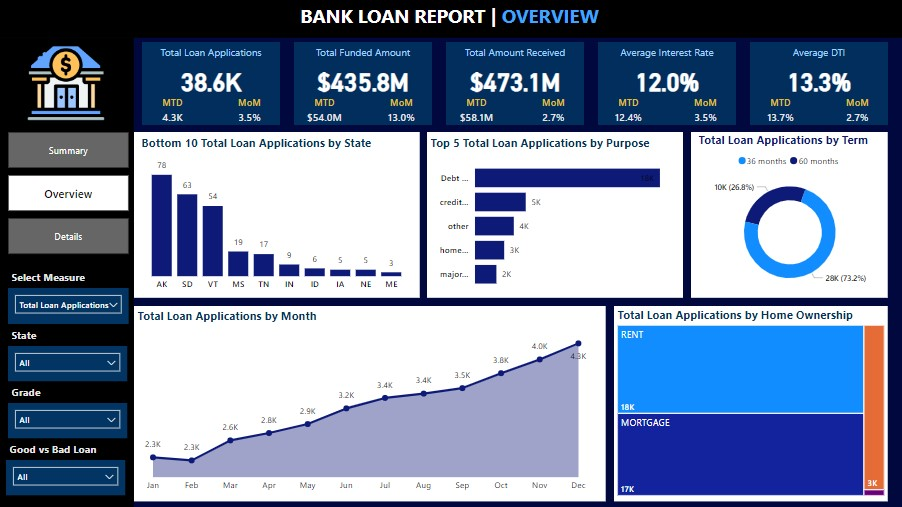

The dashboard page shown, as its layout file describes it:
{"tool":"powerbi","page":{"name":"Overview","canvas":[1280,720],"ordinal":1},"visuals":[{"type":"shape","box":[202.7,60.9,195.6,117.6],"z":0,"group":"g2"},{"type":"shape","box":[418.1,60.9,195.6,117.6],"z":0,"group":"g1"},{"type":"shape","box":[633.5,60.9,195.6,117.6],"z":0,"group":"g3"},{"type":"shape","box":[849,60.9,195.6,117.6],"z":0,"group":"g4"},{"type":"shape","box":[1064.4,60.9,195.6,117.6],"z":0,"group":"g5"},{"type":"shape","box":[191.3,188.5,405.4,235.3],"z":0},{"type":"shape","box":[0,55.3,191.3,664.7],"z":1000},{"type":"card","fields":{"Values":["bank_loan_data.Total Loan Applications"]},"box":[225.4,92.1,150.2,45.4],"z":1000,"group":"g2"},{"type":"card","fields":{"Values":["bank_loan_data.Total Funded Amount"]},"box":[440.8,92.1,150.2,45.4],"z":1000,"group":"g1"},{"type":"card","fields":{"Values":["bank_loan_data.Total Amount Received"]},"box":[656.2,92.1,150.2,45.4],"z":1000,"group":"g3"},{"type":"card","fields":{"Values":["bank_loan_data.Avg Interest Rate"]},"box":[871.7,92.1,150.2,45.4],"z":1000,"group":"g4"},{"type":"card","fields":{"Values":["bank_loan_data.Avg DTI"]},"box":[1087.1,92.1,150.2,45.4],"z":1000,"group":"g5"},{"type":"shape","box":[0,0,1279.8,55],"z":2000},{"type":"textbox","box":[214,60.9,172.9,31.2],"z":2000,"group":"g2"},{"type":"textbox","box":[429.4,60.9,172.9,31.2],"z":2000,"group":"g1"},{"type":"textbox","box":[644.8,60.9,172.9,31.2],"z":2000,"group":"g3"},{"type":"textbox","box":[860.3,60.9,172.9,31.2],"z":2000,"group":"g4"},{"type":"textbox","box":[1075.7,60.9,172.9,31.2],"z":2000,"group":"g5"},{"type":"card","title":"MTD","fields":{"Values":["bank_loan_data.MTD Loan Applications"]},"box":[214,137.4,63.8,41.1],"z":3000,"group":"g2"},{"type":"card","title":"MTD","fields":{"Values":["bank_loan_data.MTD Funded Amount"]},"box":[429.4,137.4,63.8,41.1],"z":3000,"group":"g1"},{"type":"card","title":"MTD","fields":{"Values":["bank_loan_data.MTD Total Amount Received"]},"box":[644.8,137.4,63.8,41.1],"z":3000,"group":"g3"},{"type":"card","title":"MTD","fields":{"Values":["bank_loan_data.MTD Avg int Rate"]},"box":[860.3,137.4,63.8,41.1],"z":3000,"group":"g4"},{"type":"card","title":"MTD","fields":{"Values":["bank_loan_data.MTD Avg DTI"]},"box":[1075.7,137.4,63.8,41.1],"z":3000,"group":"g5"},{"type":"textbox","box":[12.8,460.6,58.1,31.2],"z":3000},{"type":"textbox","box":[413.9,0,449.3,46.8],"z":4000},{"type":"card","title":"MoM","fields":{"Values":["bank_loan_data.MoM Loan Applications"]},"box":[323.2,137.4,63.8,41.1],"z":4000,"group":"g2"},{"type":"card","title":"MoM","fields":{"Values":["bank_loan_data.MoM Funded Amount"]},"box":[538.6,137.4,63.8,41.1],"z":4000,"group":"g1"},{"type":"card","title":"MoM","fields":{"Values":["bank_loan_data.MoM Total Amount Received"]},"box":[754,137.4,63.8,41.1],"z":4000,"group":"g3"},{"type":"card","title":"MoM","fields":{"Values":["bank_loan_data.MoM Avg int Rate"]},"box":[969.5,137.4,63.8,41.1],"z":4000,"group":"g4"},{"type":"card","title":"MoM","fields":{"Values":["bank_loan_data.MoM Avg DTI"]},"box":[1184.9,137.4,63.8,41.1],"z":4000,"group":"g5"},{"type":"group","id":"g1","title":"Group 1","box":[418.1,60.9,195.6,117.6],"z":5000},{"type":"group","id":"g2","title":"Group 1","box":[202.7,60.9,195.6,117.6],"z":6000},{"type":"group","id":"g3","title":"Group 1","box":[633.5,60.9,195.6,117.6],"z":7000},{"type":"group","id":"g4","title":"Group 1","box":[849,60.9,195.6,117.6],"z":8000},{"type":"group","id":"g5","title":"Group 1","box":[1064.4,60.9,195.6,117.6],"z":9000},{"type":"slicer","fields":{"Values":["bank_loan_data.address_state"]},"box":[12.8,491.8,168.7,49.6],"z":10000},{"type":"slicer","fields":{"Values":["bank_loan_data.grade"]},"box":[12.8,572.6,168.7,49.6],"z":11000},{"type":"shape","box":[191.5,435.1,668.6,277.2],"z":11500},{"type":"slicer","fields":{"Values":["bank_loan_data.Good Loan vs Bad Loan"]},"box":[9.9,653.4,168.7,49.6],"z":12000},{"type":"textbox","box":[12.8,541.4,82.2,31.2],"z":13000},{"type":"textbox","box":[9.9,622.2,150.2,31.2],"z":14000},{"type":"areaChart","fields":{"Y":["bank_loan_data.Total Loan Applications"],"Category":["Date_table.Month"]},"box":[191.5,438.4,656.8,268.8],"z":15000},{"type":"slicer","fields":{"Values":["Select Measures.Select Measures"]},"box":[12.8,409.6,171.5,51],"z":16000},{"type":"shape","box":[981,188.1,278.8,235.2],"z":17000},{"type":"textbox","box":[12.8,378.4,130.4,31.2],"z":18000},{"type":"shape","box":[606.4,188.1,362.8,235.2],"z":19000},{"type":"barChart","title":"Top 5 Total Loan Applications by Purpose","fields":{"Y":["bank_loan_data.Total Loan Applications"],"Category":["bank_loan_data.purpose"]},"box":[606.4,193.2,362.8,230.1],"z":20000},{"type":"shape","box":[871.8,435.1,388,277.2],"z":21000},{"type":"treemap","fields":{"Values":["bank_loan_data.Total Loan Applications"],"Group":["bank_loan_data.home_ownership"]},"box":[871.8,436.7,388,272.1],"z":22000},{"type":"pageNavigator","box":[12.8,188.5,171.5,175.7],"z":23000},{"type":"image","box":[26.9,55.3,136.1,127.6],"z":25000},{"type":"columnChart","title":"Bottom 10 Total Loan Applications by State","fields":{"Category":["bank_loan_data.address_state"],"Y":["bank_loan_data.Total Loan Applications"]},"box":[196.5,193.2,393.1,230.1],"z":26000},{"type":"donutChart","fields":{"Y":["bank_loan_data.Total Loan Applications"],"Category":["bank_loan_data.term"]},"box":[986,188.1,268.8,235.2],"z":27000}]}

Visuals, with their boxes in screenshot pixels (x1, y1, x2, y2), scaled from the page's 1280x720 canvas onto the 902x507 screenshot:
shape: (left=143, top=43, right=281, bottom=126)
shape: (left=295, top=43, right=432, bottom=126)
shape: (left=446, top=43, right=584, bottom=126)
shape: (left=598, top=43, right=736, bottom=126)
shape: (left=750, top=43, right=888, bottom=126)
shape: (left=135, top=133, right=420, bottom=298)
shape: (left=0, top=39, right=135, bottom=506)
card - bank_loan_data.Total Loan Applications: (left=159, top=65, right=265, bottom=97)
card - bank_loan_data.Total Funded Amount: (left=311, top=65, right=416, bottom=97)
card - bank_loan_data.Total Amount Received: (left=462, top=65, right=568, bottom=97)
card - bank_loan_data.Avg Interest Rate: (left=614, top=65, right=720, bottom=97)
card - bank_loan_data.Avg DTI: (left=766, top=65, right=872, bottom=97)
shape: (left=0, top=0, right=901, bottom=39)
textbox: (left=151, top=43, right=273, bottom=65)
textbox: (left=303, top=43, right=424, bottom=65)
textbox: (left=454, top=43, right=576, bottom=65)
textbox: (left=606, top=43, right=728, bottom=65)
textbox: (left=758, top=43, right=880, bottom=65)
"MTD" card: (left=151, top=97, right=196, bottom=126)
"MTD" card: (left=303, top=97, right=348, bottom=126)
"MTD" card: (left=454, top=97, right=499, bottom=126)
"MTD" card: (left=606, top=97, right=651, bottom=126)
"MTD" card: (left=758, top=97, right=803, bottom=126)
textbox: (left=9, top=324, right=50, bottom=346)
textbox: (left=292, top=0, right=608, bottom=33)
"MoM" card: (left=228, top=97, right=273, bottom=126)
"MoM" card: (left=380, top=97, right=425, bottom=126)
"MoM" card: (left=531, top=97, right=576, bottom=126)
"MoM" card: (left=683, top=97, right=728, bottom=126)
"MoM" card: (left=835, top=97, right=880, bottom=126)
"Group 1" group: (left=295, top=43, right=432, bottom=126)
"Group 1" group: (left=143, top=43, right=281, bottom=126)
"Group 1" group: (left=446, top=43, right=584, bottom=126)
"Group 1" group: (left=598, top=43, right=736, bottom=126)
"Group 1" group: (left=750, top=43, right=888, bottom=126)
slicer - bank_loan_data.address_state: (left=9, top=346, right=128, bottom=381)
slicer - bank_loan_data.grade: (left=9, top=403, right=128, bottom=438)
shape: (left=135, top=306, right=606, bottom=502)
slicer - bank_loan_data.Good Loan vs Bad Loan: (left=7, top=460, right=126, bottom=495)
textbox: (left=9, top=381, right=67, bottom=403)
textbox: (left=7, top=438, right=113, bottom=460)
areaChart - bank_loan_data.Total Loan Applications x Date_table.Month: (left=135, top=309, right=598, bottom=498)
slicer - Select Measures.Select Measures: (left=9, top=288, right=130, bottom=324)
shape: (left=691, top=132, right=888, bottom=298)
textbox: (left=9, top=266, right=101, bottom=288)
shape: (left=427, top=132, right=683, bottom=298)
"Top 5 Total Loan Applications by Purpose" barChart: (left=427, top=136, right=683, bottom=298)
shape: (left=614, top=306, right=888, bottom=502)
treemap - bank_loan_data.Total Loan Applications x bank_loan_data.home_ownership: (left=614, top=308, right=888, bottom=499)
pageNavigator: (left=9, top=133, right=130, bottom=256)
image: (left=19, top=39, right=115, bottom=129)
"Bottom 10 Total Loan Applications by State" columnChart: (left=138, top=136, right=415, bottom=298)
donutChart - bank_loan_data.Total Loan Applications x bank_loan_data.term: (left=695, top=132, right=884, bottom=298)
